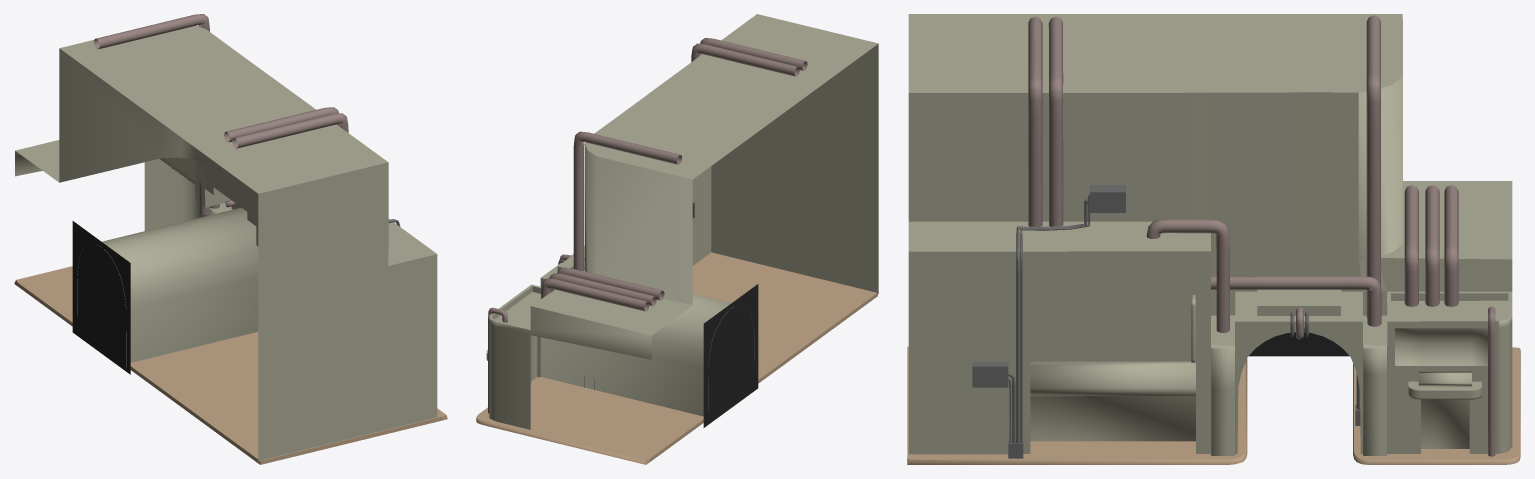
Rendered from Tunnel-building.fbx.
3 renders of one model, left to right at view 1: azimuth 30°, elevation 25°; view 2: azimuth 150°, elevation 25°; view 3: azimuth 270°, elevation 25°, orthographic. The views are drawn at different scales.
Parts seen in each view (by area): view 1: Cube.003, Cube, Plane.001, Cube.001, NurbsCurve.011, NurbsCurve.009, NurbsCurve.008; view 2: Cube.003, Cube, Cube.001, Plane.001, NurbsCurve.011, NurbsCurve.002, NurbsCurve.008, NurbsCurve, NurbsCurve.009, NurbsCurve.001; view 3: Cube.003, Cube, NurbsCurve.011, Cube.001, NurbsCurve.009, NurbsCurve.008, NurbsCurve.003, NurbsCurve.004, NurbsCurve.002, NurbsCurve, NurbsCurve.001, Plane.001 (+5 smaller).
Part boxes in pixels (x1,y1,x2,y2): Cube.003: [15, 25, 437, 461]; Cube: [130, 332, 447, 464]; Plane.001: [72, 221, 130, 374]; Cube.001: [14, 266, 72, 326]; NurbsCurve.011: [94, 14, 210, 215]; NurbsCurve.009: [232, 113, 348, 148]; NurbsCurve.008: [224, 107, 338, 142]; Cube.003: [486, 14, 878, 429]; Cube: [692, 252, 877, 383]; Cube.001: [476, 377, 703, 464]; Plane.001: [703, 284, 758, 427]; NurbsCurve.011: [573, 131, 681, 270]; NurbsCurve.002: [541, 278, 649, 311]; NurbsCurve.008: [691, 43, 799, 76]; NurbsCurve: [557, 267, 664, 300]; NurbsCurve.009: [700, 38, 807, 70]; NurbsCurve.001: [549, 273, 656, 306]; Cube.003: [908, 14, 1512, 455]; Cube: [907, 346, 1247, 464]; NurbsCurve.011: [1366, 15, 1380, 317]; Cube.001: [1353, 347, 1520, 464]; NurbsCurve.009: [1028, 16, 1042, 226]; NurbsCurve.008: [1048, 16, 1063, 226]; NurbsCurve.003: [1211, 276, 1381, 326]; NurbsCurve.004: [1146, 219, 1229, 332]; NurbsCurve.002: [1444, 185, 1458, 306]; NurbsCurve: [1404, 185, 1418, 306]; NurbsCurve.001: [1425, 185, 1439, 306]; Plane.001: [1249, 332, 1349, 356].
Bounding box in the file's own units: 799 × 1099 × 1715.
